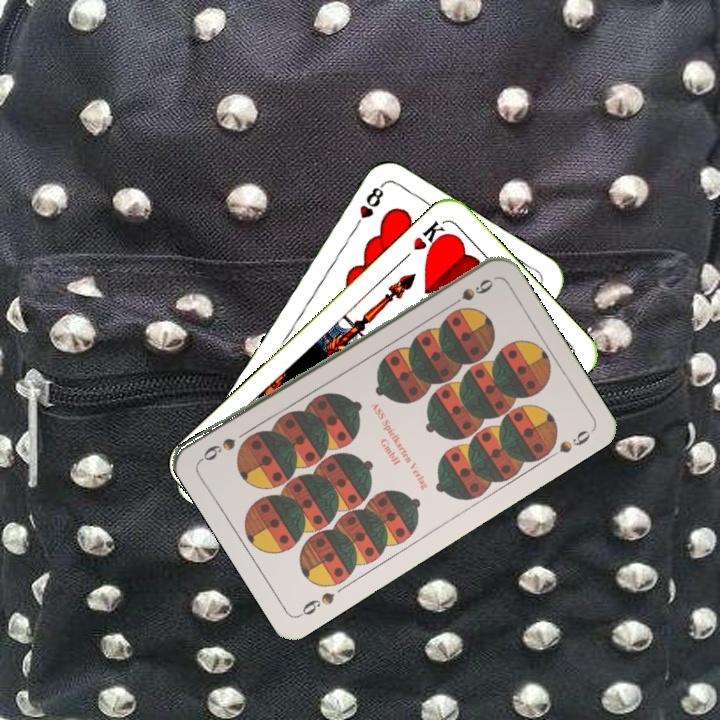H8: (349, 179, 387, 233)
HK: (399, 216, 451, 262)
S9: (443, 274, 496, 312), (295, 588, 337, 619)
